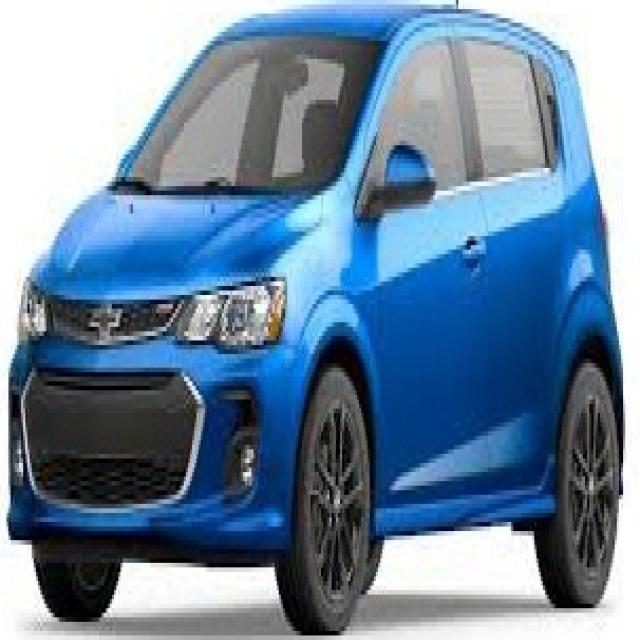blue: (9, 0, 626, 627)
